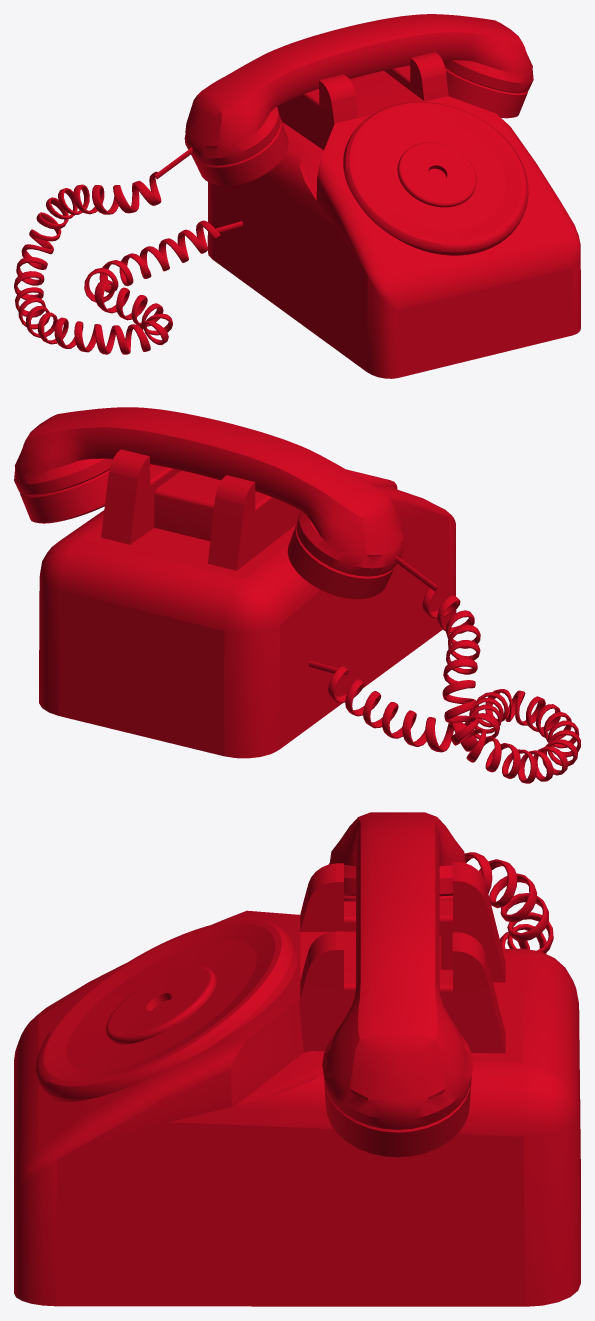
The model's file is phone1.glb.
3 renders of one model, top to bottom at view 1: azimuth 30°, elevation 25°; view 2: azimuth 150°, elevation 25°; view 3: azimuth 270°, elevation 25°, orthographic. The views are drawn at different scales.
Visible parts, largest first — view 1: Phone, Cube.004, BezierCircle; view 2: Phone, Cube.004, BezierCircle; view 3: Phone, Cube.004, BezierCircle.
Part boxes in pixels (bbox=[...]): Phone: bbox=[207, 52, 580, 378]; Cube.004: bbox=[184, 14, 533, 185]; BezierCircle: bbox=[14, 171, 220, 354]; Phone: bbox=[39, 449, 456, 758]; Cube.004: bbox=[14, 407, 403, 599]; BezierCircle: bbox=[328, 587, 580, 783]; Phone: bbox=[14, 862, 580, 1306]; Cube.004: bbox=[322, 812, 473, 1157]; BezierCircle: bbox=[464, 852, 553, 953].
Size of the model in its own units: 11.17 by 5 by 7.29.
